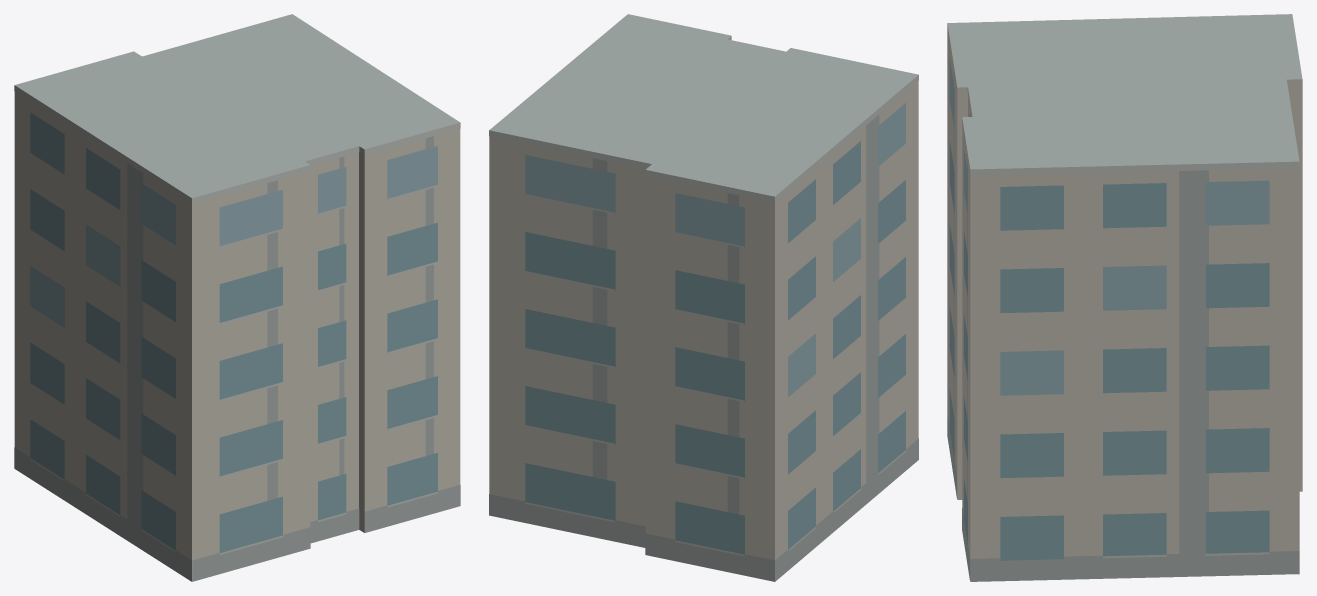
The model's file is survey-upis-33013137.glb.
3 views of the same model, side by side, from view 1: azimuth 30°, elevation 25°; view 2: azimuth 150°, elevation 25°; view 3: azimuth 270°, elevation 25° (orthographic). The views are drawn at different scales.
Visible parts, largest first — view 1: survey-upis-33013137.tmp; view 2: survey-upis-33013137.tmp; view 3: survey-upis-33013137.tmp.
Part boxes in pixels (x1=…): survey-upis-33013137.tmp: x1=14, y1=14, x2=460, y2=581; survey-upis-33013137.tmp: x1=489, y1=14, x2=918, y2=581; survey-upis-33013137.tmp: x1=947, y1=14, x2=1302, y2=581.
Bounding box in the file's own units: 12.33 × 15.25 × 11.91.
